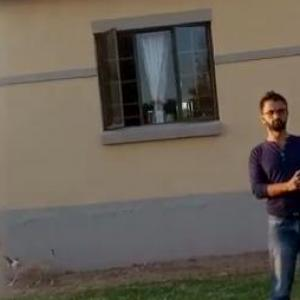follow: (236, 82, 299, 299)
null: (3, 241, 64, 287)
